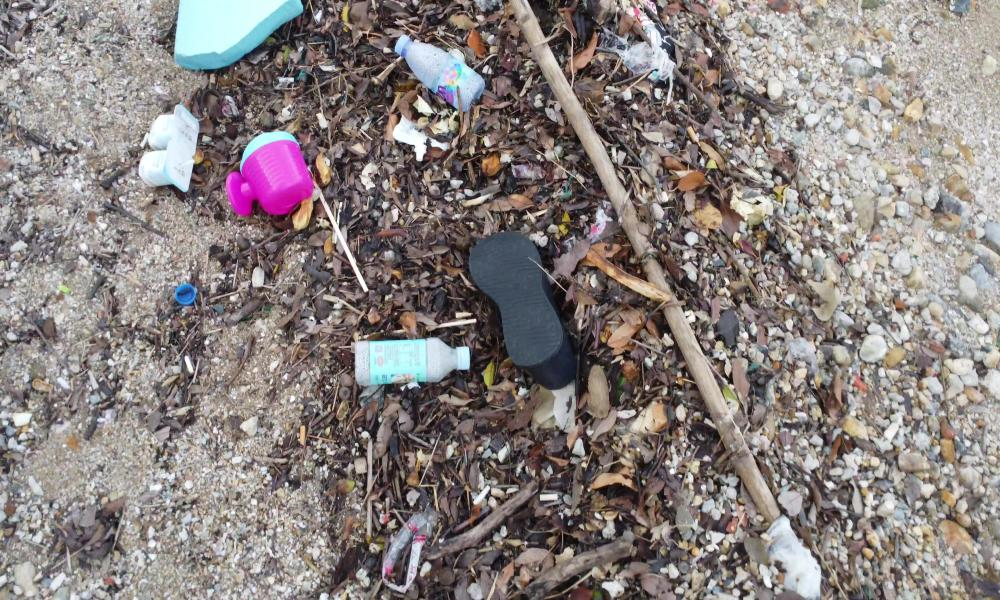carton: (140, 104, 196, 189)
plastic bottle: (393, 32, 485, 113), (352, 335, 472, 381)
